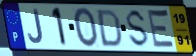1: (51, 7, 68, 48)
D: (96, 8, 123, 48)
E: (146, 8, 177, 51)
J: (26, 8, 44, 45)
O: (73, 7, 100, 49)
S: (126, 8, 151, 49)
